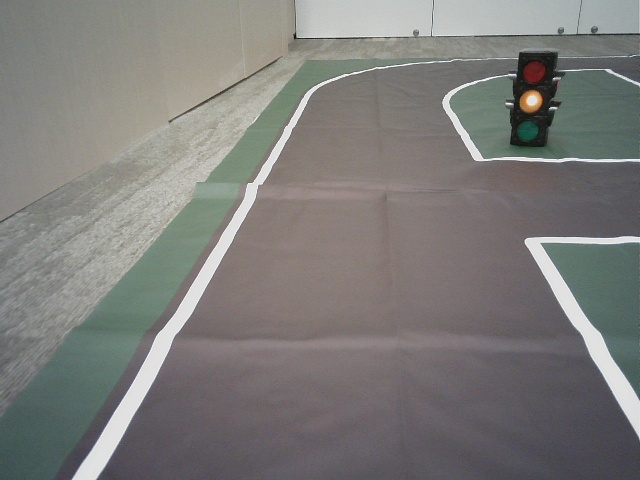yellow: (515, 53, 544, 142)
